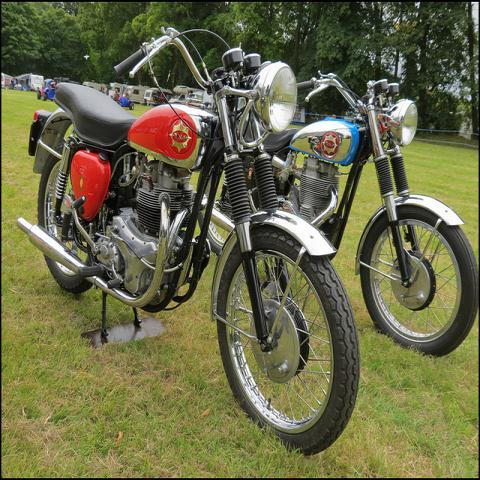bus: (109, 82, 135, 110), (122, 84, 150, 104)
car: (37, 78, 57, 102)
motorcycle: (14, 26, 371, 453), (269, 75, 478, 358)
truck: (143, 88, 173, 106), (170, 85, 198, 104)
